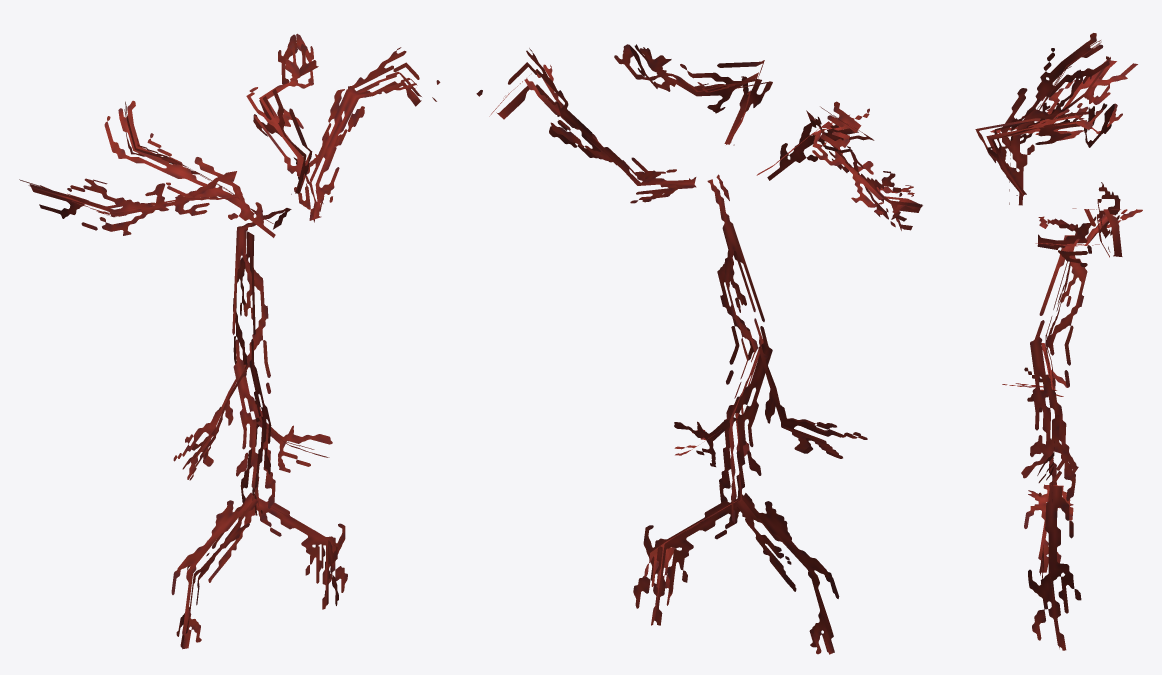
The model's file is Minos_Veins_Body.obj.
3 views of the same model, side by side, from view 1: azimuth 30°, elevation 25°; view 2: azimuth 150°, elevation 25°; view 3: azimuth 270°, elevation 25° (orthographic). The views are drawn at different scales.
Parts seen in each view (by area): view 1: Minos_Veins_Body; view 2: Minos_Veins_Body; view 3: Minos_Veins_Body.
Part boxes in pixels (left/top/right/bottom): Minos_Veins_Body: left=19, top=33, right=440, bottom=649; Minos_Veins_Body: left=476, top=44, right=922, bottom=654; Minos_Veins_Body: left=975, top=33, right=1142, bottom=650.
Size of the model in its own units: 0.2914 by 0.3788 by 0.1059.
1 material, 1 textured.
